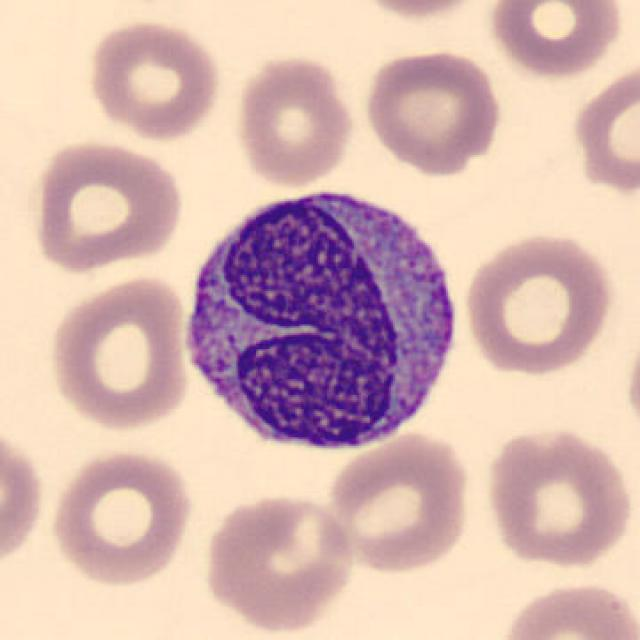Monocyte: (172, 174, 470, 463)
RBC: (44, 272, 194, 434), (460, 228, 617, 378), (199, 488, 357, 635), (480, 423, 635, 571), (320, 430, 475, 577), (27, 136, 186, 275), (44, 444, 196, 589), (361, 46, 505, 178), (231, 51, 359, 191), (84, 16, 224, 143), (483, 0, 628, 81), (573, 64, 640, 205), (494, 576, 638, 640), (0, 419, 48, 576), (345, 0, 496, 21), (622, 314, 640, 448)
